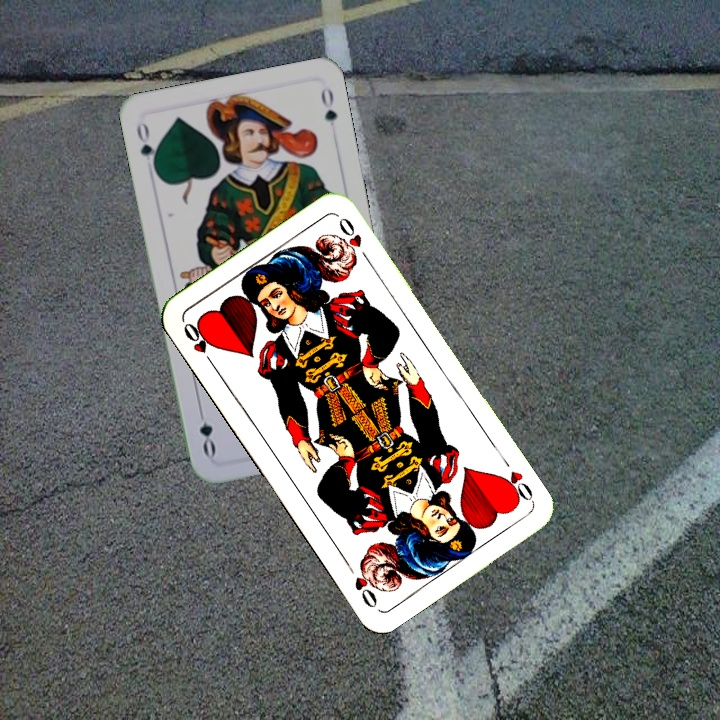GO: (132, 117, 160, 175)
HO: (179, 318, 218, 370), (495, 466, 537, 506)
